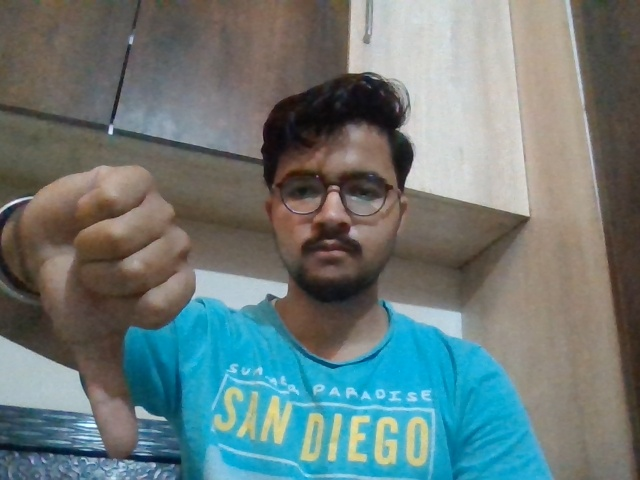no: (13, 160, 200, 459)
